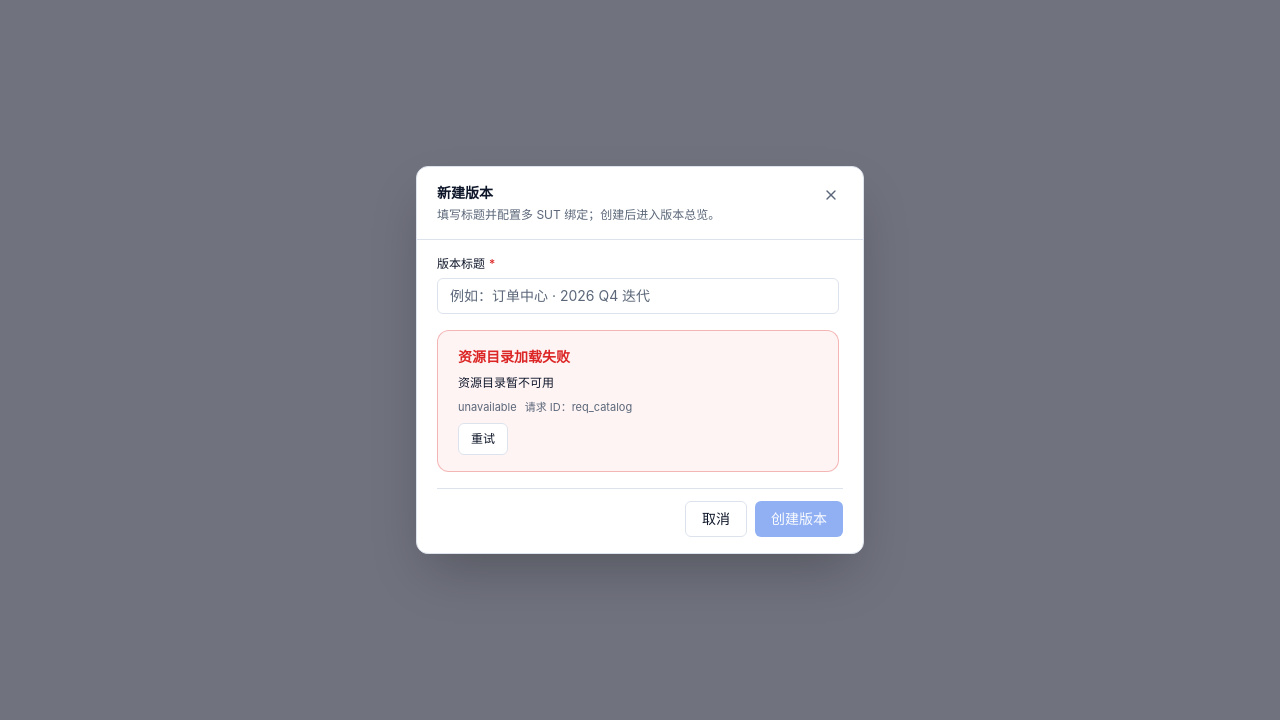
Test case: CreateVersionDialog › shows the catalog error and retries
expect the text "资源目录暂不可用" is shown: met, box 458,375 -> 554,391
Click the button "重试" at [483, 439], box 458,423 -> 508,455
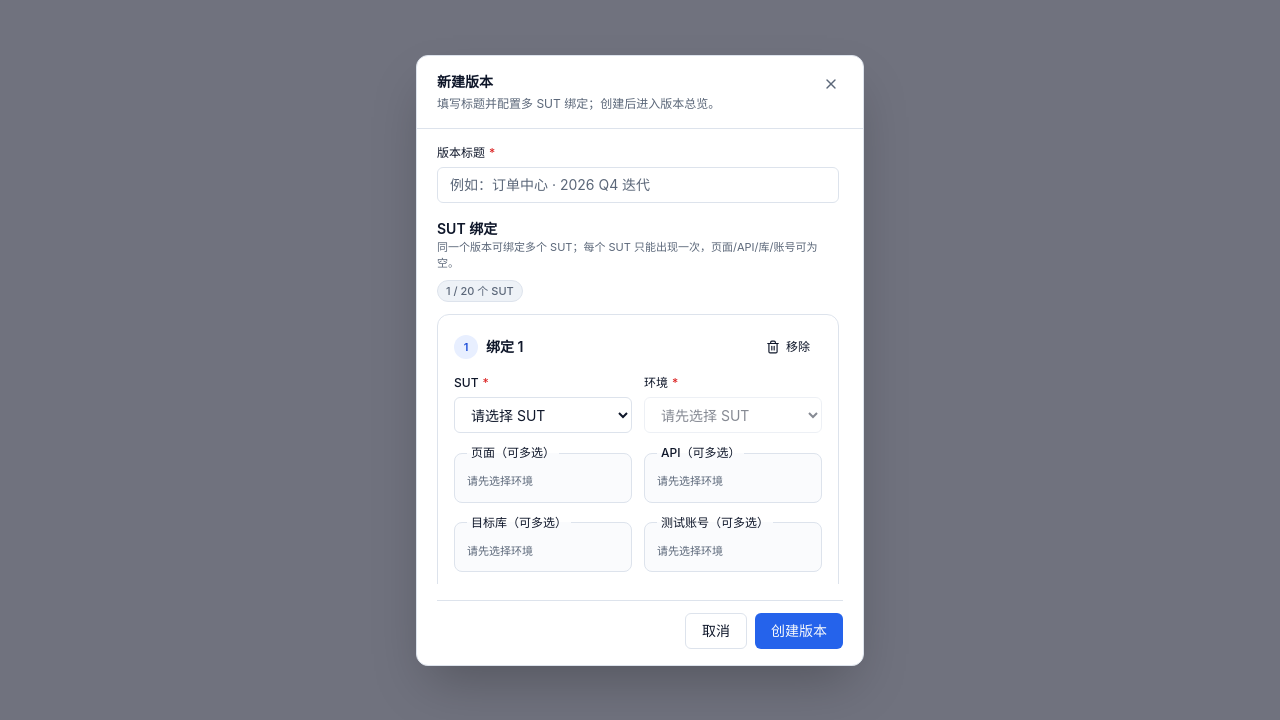
expect the dialog "新建版本" is shown: met, box 416,54 -> 864,666
expect the dropdown labelled "SUT" is shown: met, box 454,397 -> 632,433
